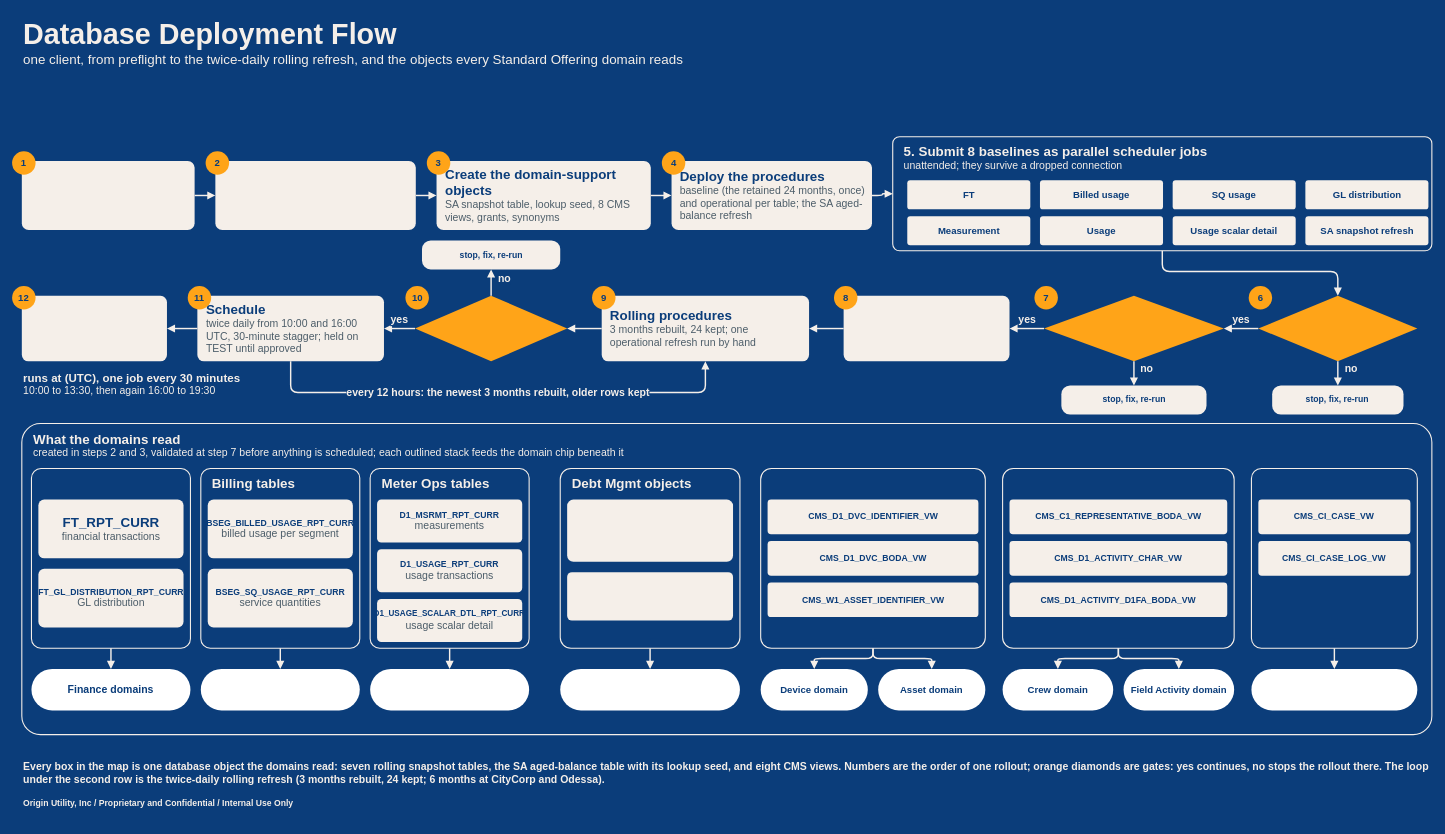
This 1445x834 diagram has some shape labels left out. The shapes that lost their labels are listed below. From the top down, each one's box as (x1, y1, x2, y2) in pixels, then its label:
(21, 161, 194, 230): Preflight the deploy user can read every source table and write the targets
(215, 161, 415, 230): Create the 7 snapshot tables empty, with their keys
(21, 295, 167, 361): Capture runs, data quality per client, kept with the log
(415, 295, 567, 361): validated again?
(843, 295, 1009, 361): Post-load indexes keys and dates the domains filter on
(1044, 295, 1223, 361): validate and install gates pass?
(1258, 295, 1417, 361): ready gate: every job SUCCEEDED?
(567, 499, 733, 561): CMS_SA_SNAPSHOT aged balance per SA, refreshed by procedure
(31, 468, 191, 648): Finance tables
(760, 468, 986, 648): Meter Ops views
(1002, 468, 1234, 648): Field Ops views
(1251, 468, 1418, 648): Customer Ops views
(567, 572, 733, 620): CM_SNAPSHOT_TYPE_FLG lookup seed: LDAY, EMON, ARCH, LEMN
(200, 669, 359, 710): Billing and Rates domains
(370, 669, 529, 710): Usage and measurement domains
(560, 669, 740, 710): SA Snapshot Aged Balance domain
(1251, 669, 1417, 710): Case domain
